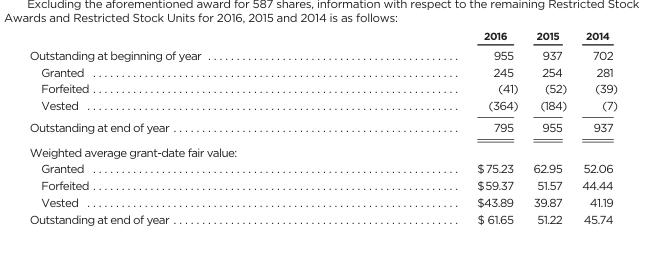table: (28, 29, 617, 225)
table column: (28, 29, 338, 225), (338, 29, 524, 225), (524, 29, 573, 225), (573, 29, 617, 225)
table column header: (28, 29, 617, 44)
table projected row header: (28, 139, 617, 159)
table row: (28, 115, 617, 139), (28, 139, 617, 159), (28, 96, 617, 115), (28, 44, 617, 62), (28, 62, 617, 79), (28, 79, 617, 96), (28, 159, 617, 176), (28, 176, 617, 193), (28, 193, 617, 210), (28, 29, 617, 44), (28, 210, 617, 225)
